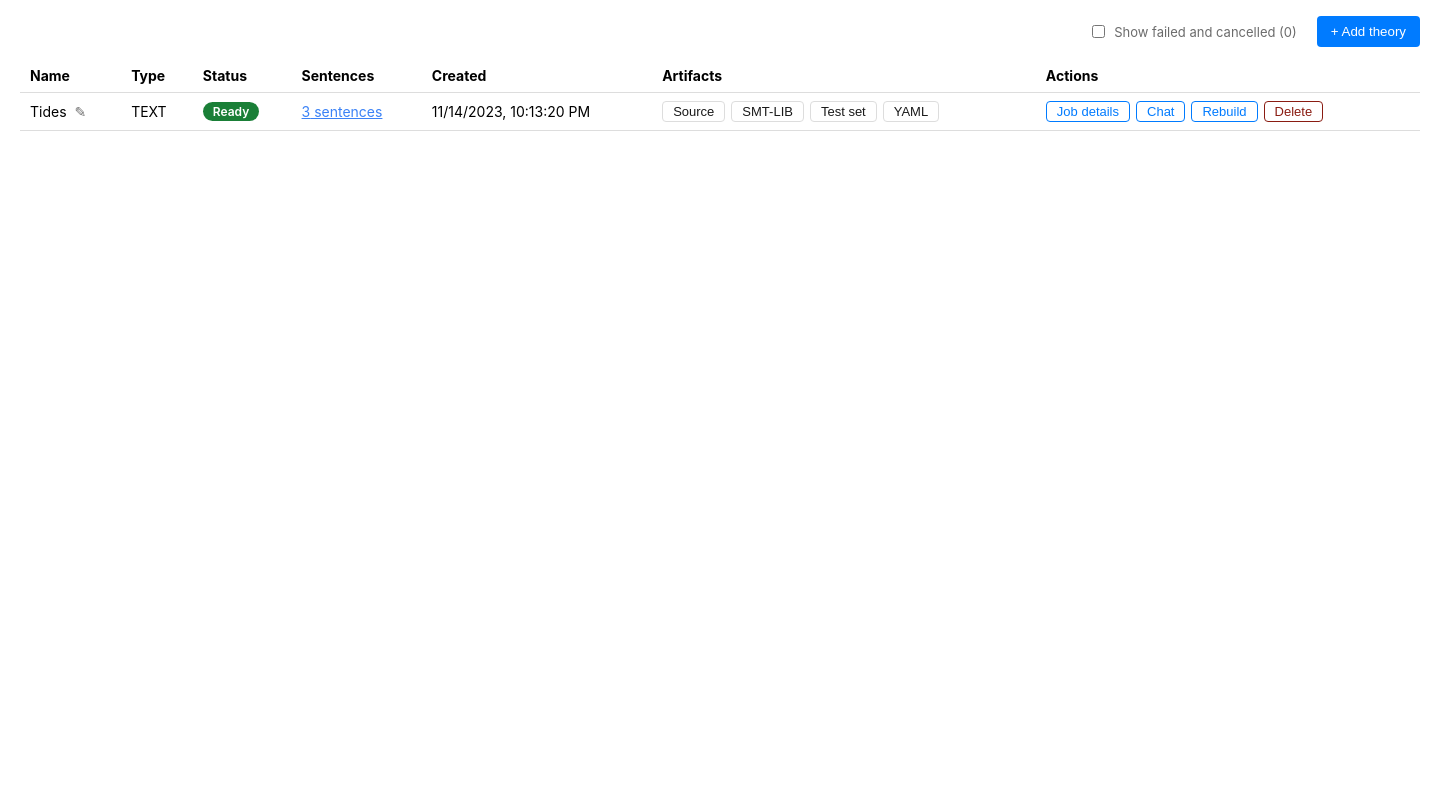
Test: a rebuild with no recorded parameters starts from the defaults
Click the button "Rebuild" at (1225, 112), box [1192,101,1258,122]
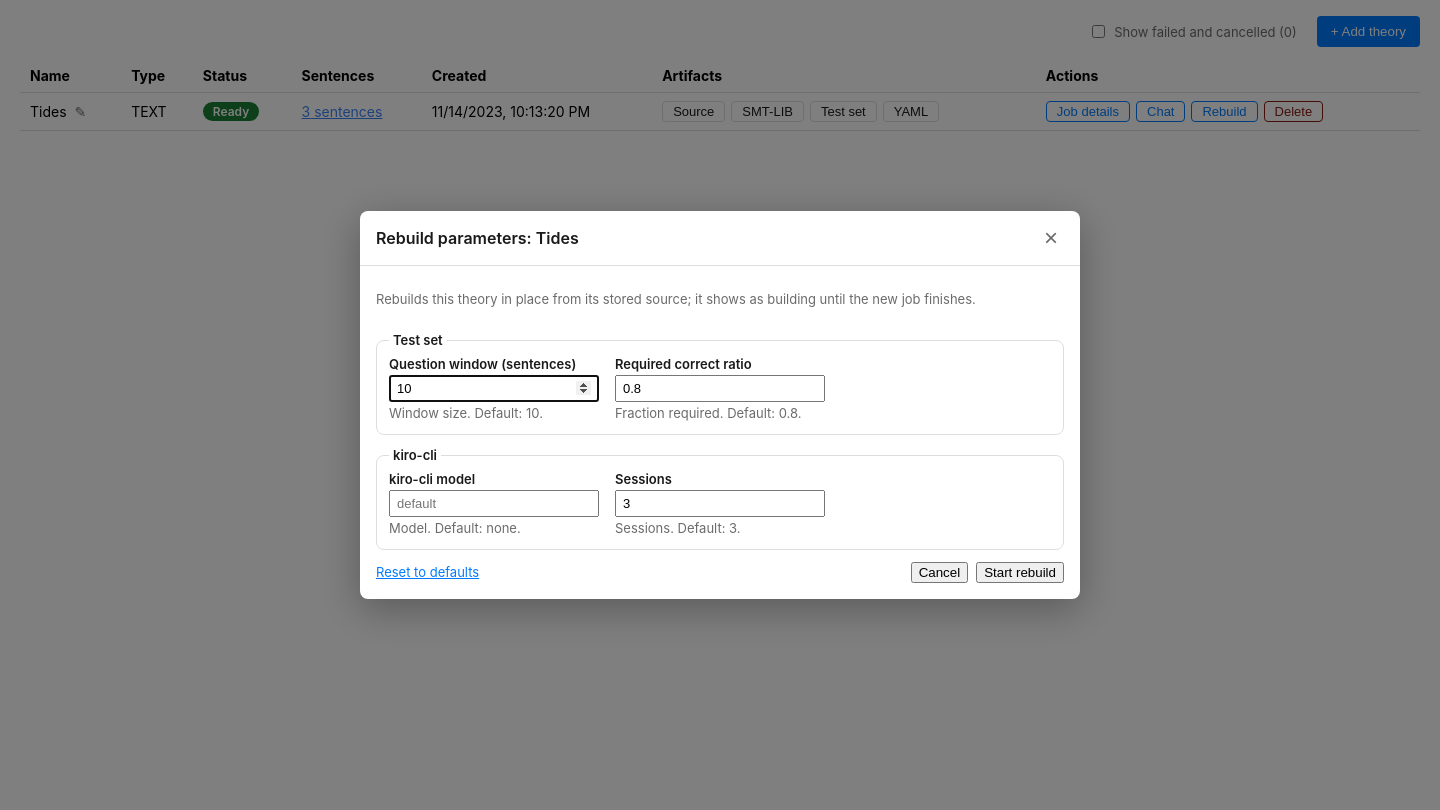
Expected: the number field labelled "Question window (sentences)" holds "10", [389,375,599,402]
Expected: the button "Reset to defaults" is shown, [376,564,479,580]
